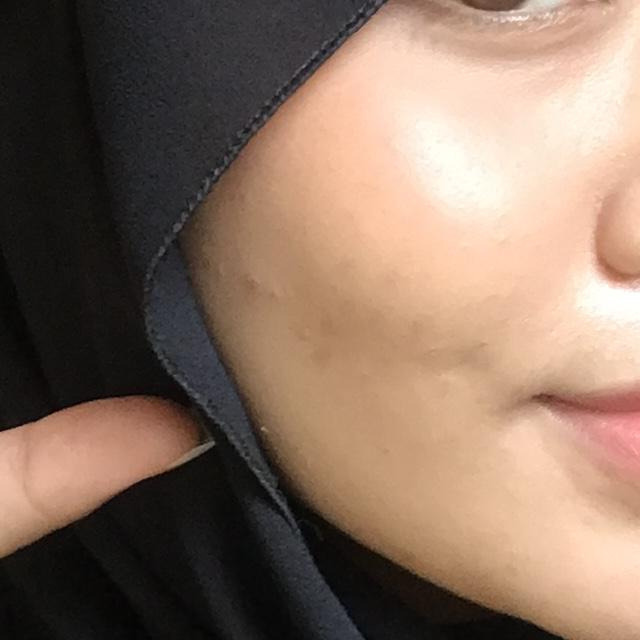mendengar: (0, 0, 345, 640)
